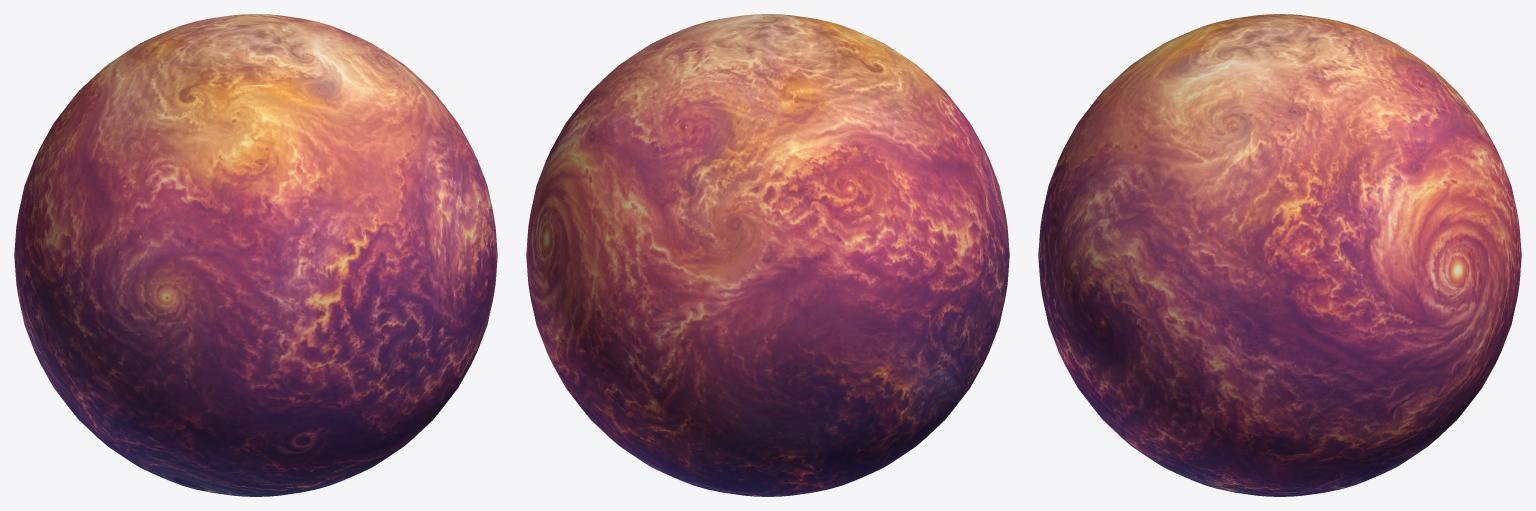
The model's file is planet_map_16.glb.
3 views of the same model, side by side, from view 1: azimuth 30°, elevation 25°; view 2: azimuth 150°, elevation 25°; view 3: azimuth 270°, elevation 25° (orthographic).
Visible parts, largest first — view 1: planet_map_16; view 2: planet_map_16; view 3: planet_map_16.
Boxes of the visible parts, left/top/right/bottom form: planet_map_16: left=14, top=14, right=497, bottom=496; planet_map_16: left=526, top=14, right=1009, bottom=496; planet_map_16: left=1038, top=14, right=1521, bottom=496.
Size of the model in its own units: 2 by 2 by 2.
1 material, 1 textured.
